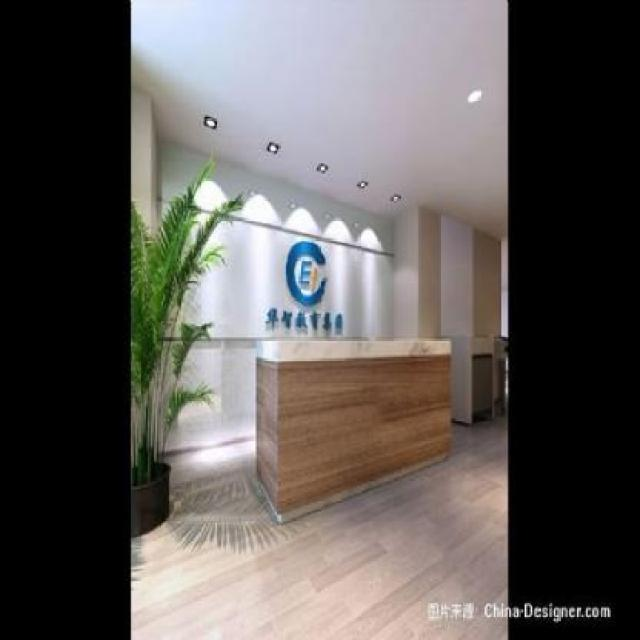frontdesk: (249, 324, 455, 524)
